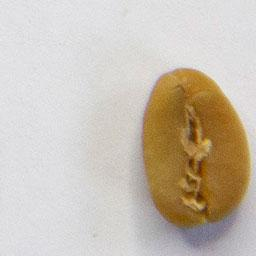defect: (138, 65, 254, 231)
